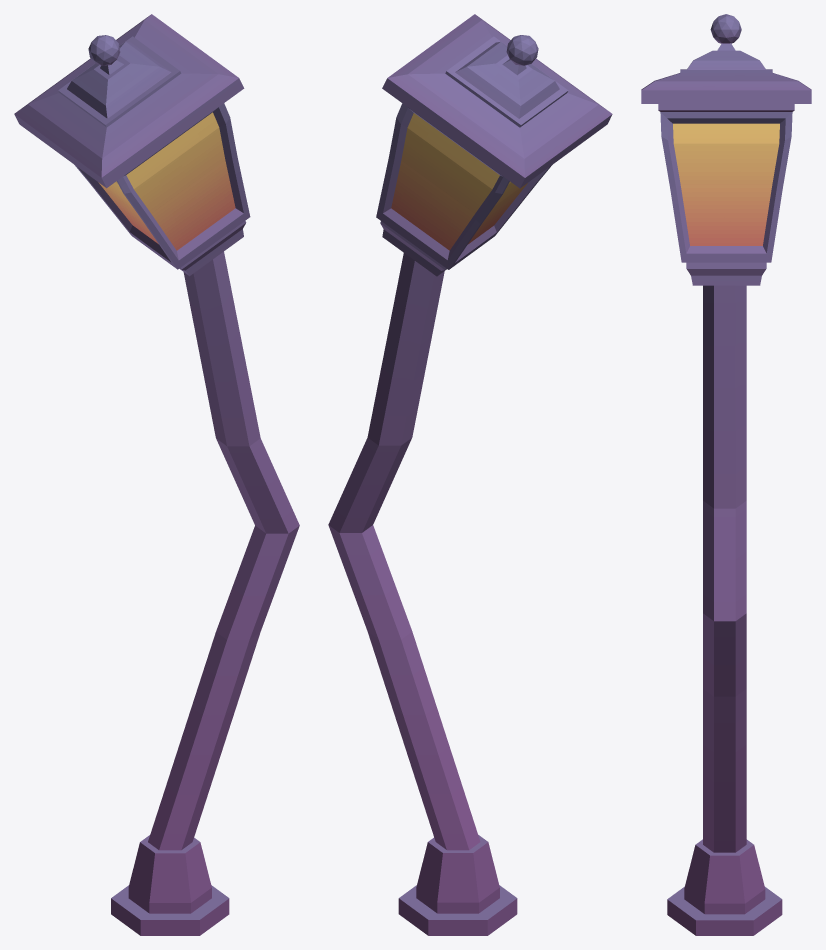
File: lantern001.obj
The picture shows the model from 3 angles, left to right: view 1: azimuth 30°, elevation 25°; view 2: azimuth 150°, elevation 25°; view 3: azimuth 270°, elevation 25°; orthographic projection. The views are drawn at different scales.
Parts seen in each view (by area): view 1: Lantern.001; view 2: Lantern.001; view 3: Lantern.001.
Boxes of the visible parts, bbox=[...] form: Lantern.001: bbox=[14, 14, 299, 935]; Lantern.001: bbox=[328, 14, 612, 935]; Lantern.001: bbox=[641, 14, 811, 935].
Size of the model in its own units: 3.77 by 13.67 by 2.43.
Materials: 1 (1 with a texture image).
